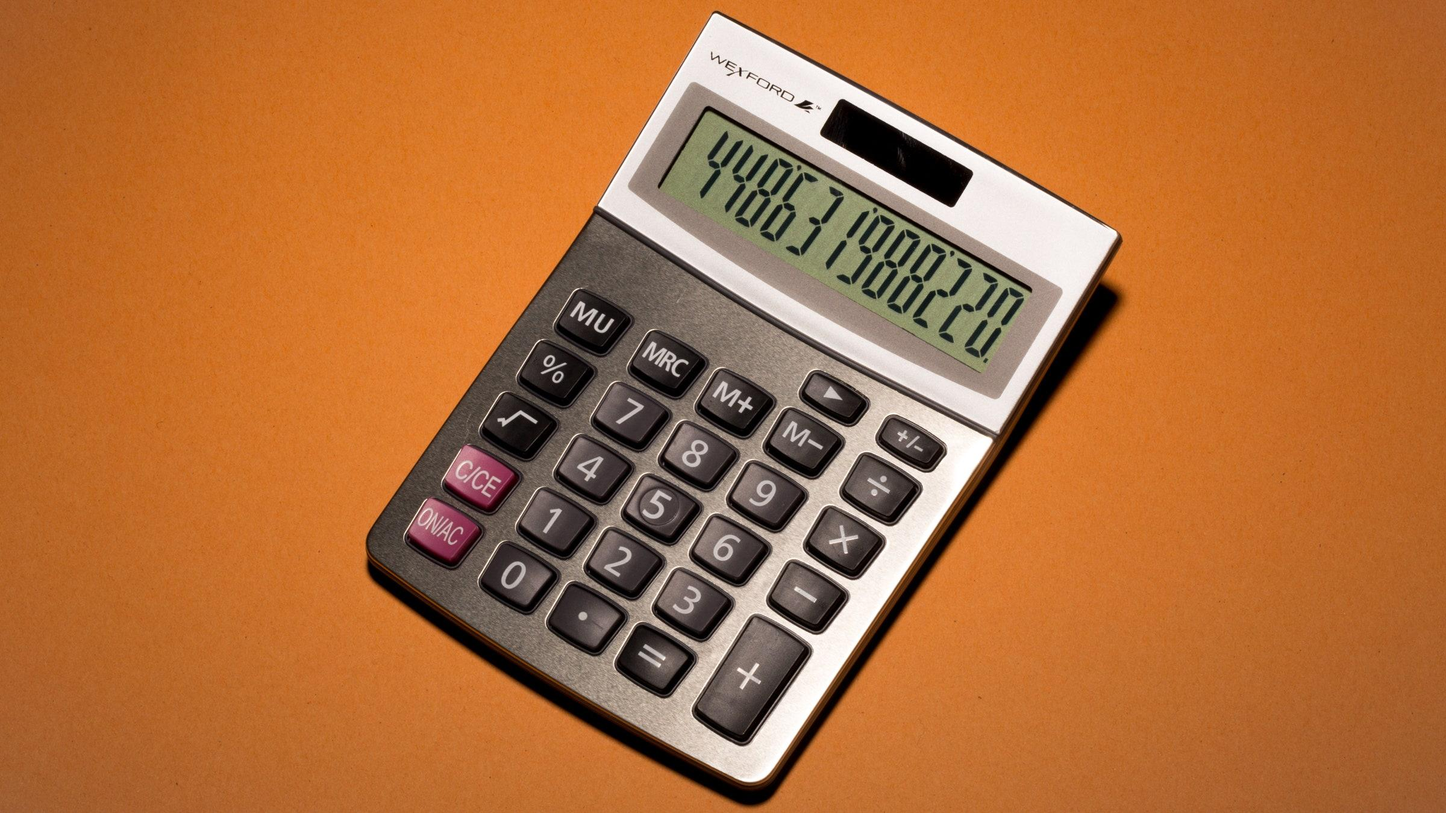Calculator: (357, 8, 1147, 813)
